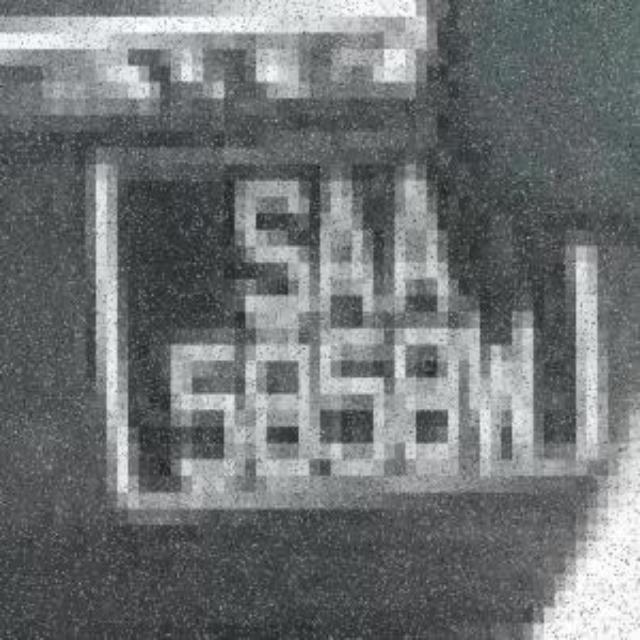License Plate: (87, 140, 613, 534)
